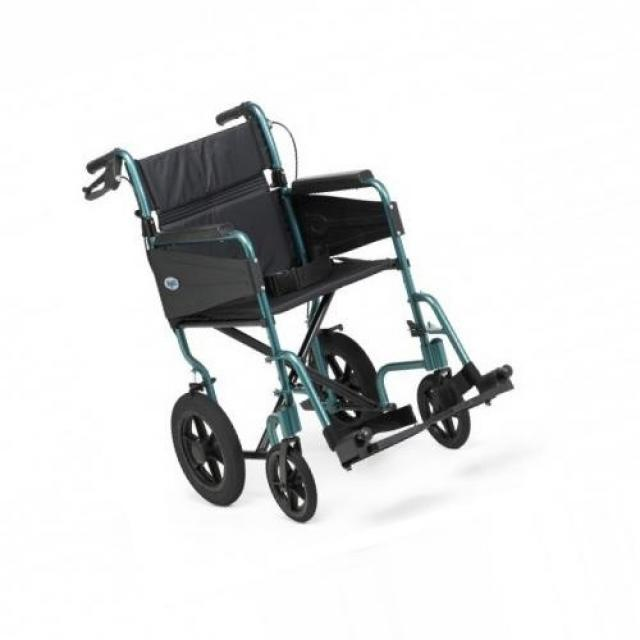wheelchair: (72, 93, 532, 532)
